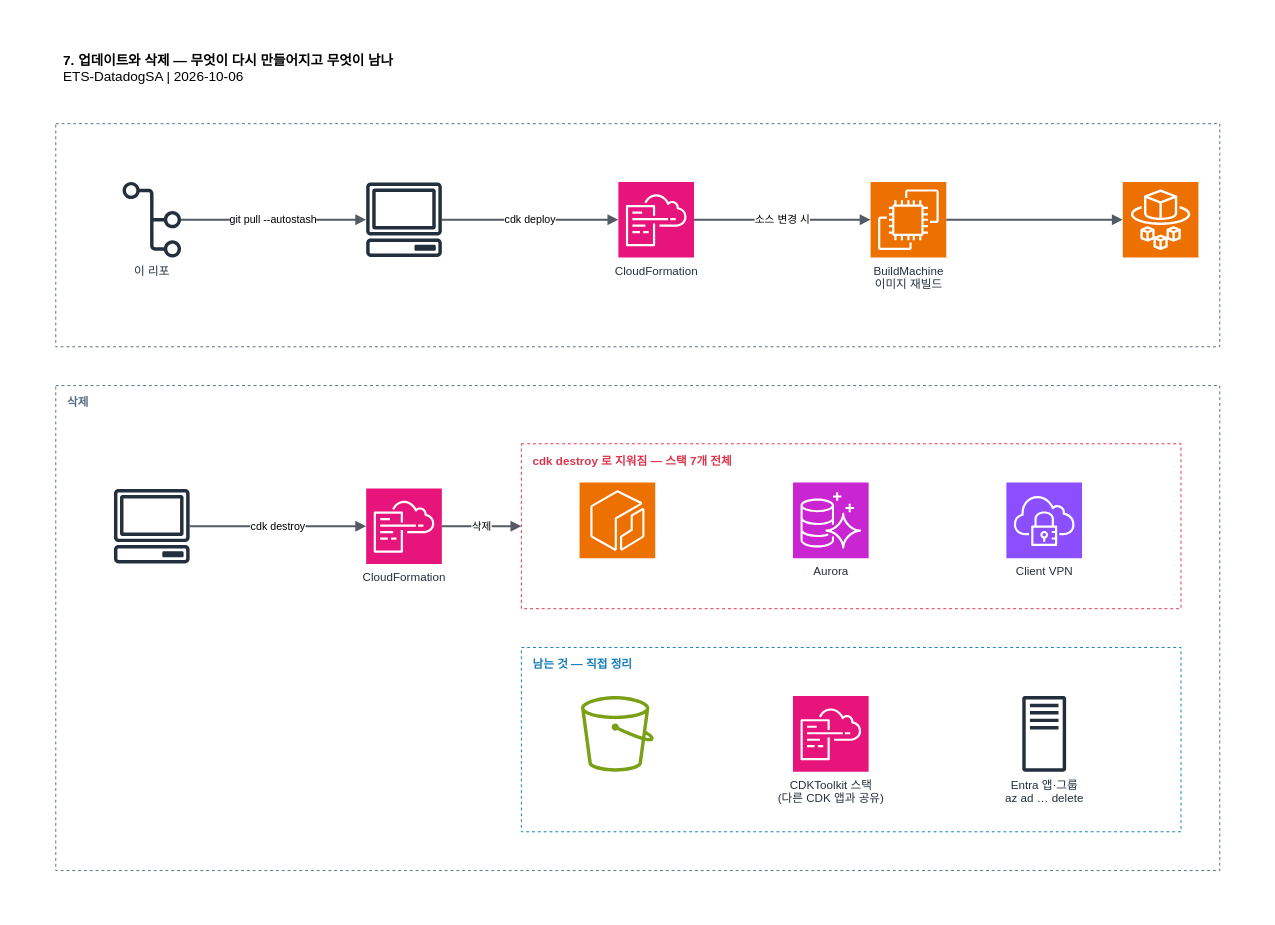
Some shapes in this 1275 by 925 pixel diagram are drawn without their labels. Here are the shapes that lost their labels. From the top down, the box of each, then its label:
(366, 181, 441, 257): 운영자 PC GUID 는 로컬 유지
(55, 123, 1220, 347): 업데이트
(1122, 181, 1198, 258): ECS 서비스 새 이미지로 갱신
(113, 488, 189, 564): 운영자 PC
(579, 482, 655, 558): ECR 리포 2개 (emptyOnDelete)
(579, 695, 655, 771): bootstrap 자산 버킷 소스 zip
